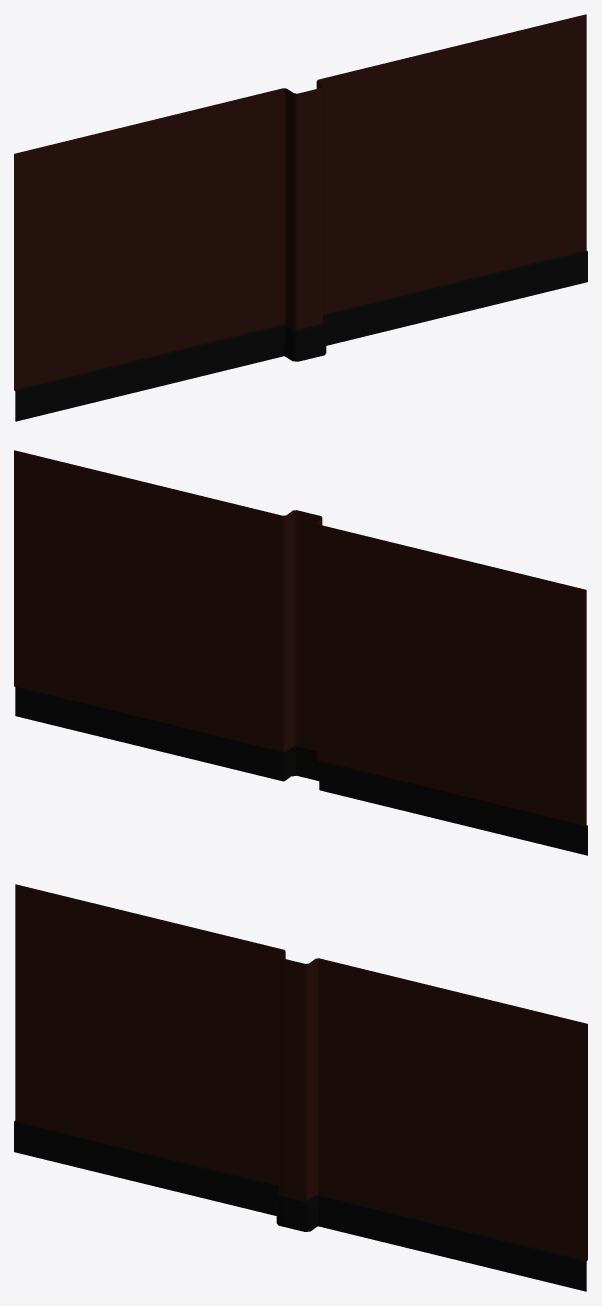
Rendered from Shortwall.fbx.
The picture shows the model from 3 angles, top to bottom: view 1: azimuth 30°, elevation 25°; view 2: azimuth 150°, elevation 25°; view 3: azimuth 330°, elevation 25°; orthographic projection.
Visible parts, largest first — view 1: ShortWall; view 2: ShortWall; view 3: ShortWall.
Part boxes in pixels (x1,y1,x2,y2): ShortWall: (14, 14, 587, 421); ShortWall: (14, 450, 587, 855); ShortWall: (14, 884, 587, 1291).
Bounding box in the file's own units: 741 × 330 × 23.65.
